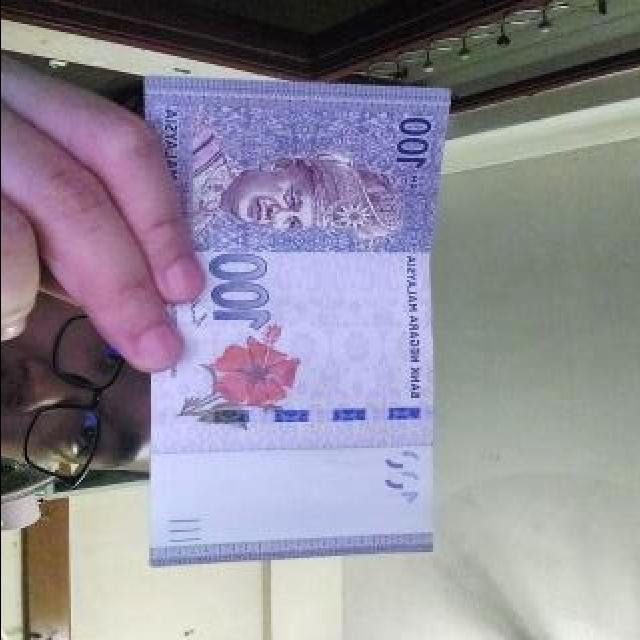100 Ringgit: (141, 54, 436, 563)
